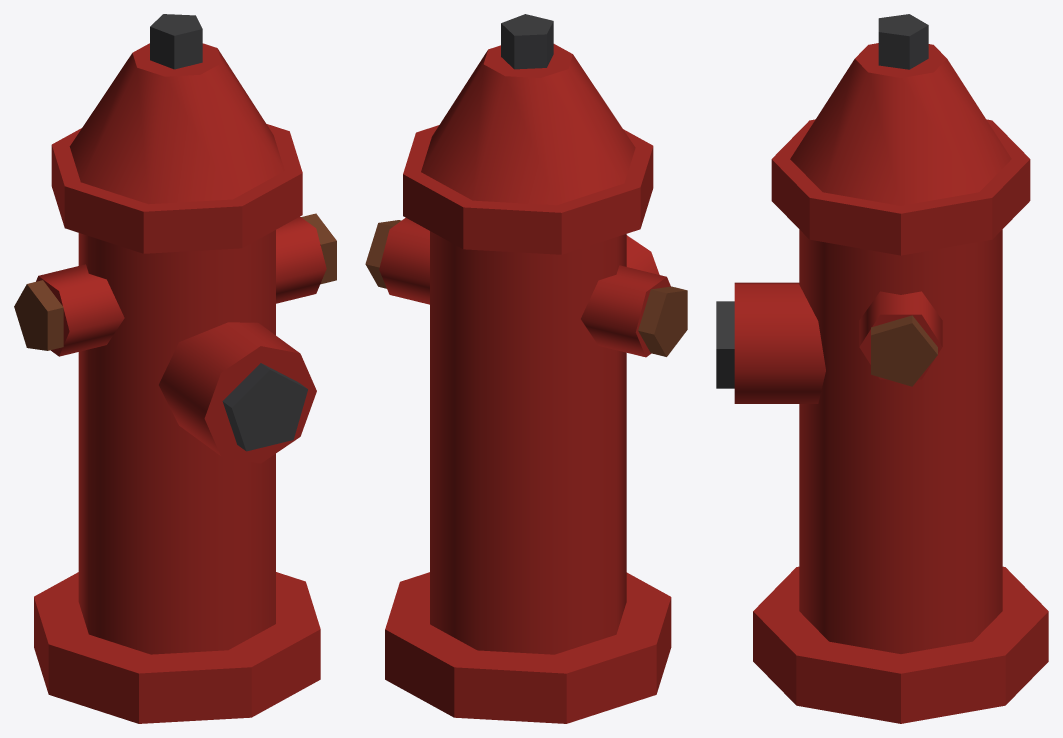
File: fire_hydrant.glb
3 views of the same model, side by side, from view 1: azimuth 30°, elevation 25°; view 2: azimuth 150°, elevation 25°; view 3: azimuth 270°, elevation 25° (orthographic).
Visible parts, largest first — view 1: fire_hydrant; view 2: fire_hydrant; view 3: fire_hydrant.
Boxes of the visible parts, x1,y1,x2,y2 form: fire_hydrant: (14, 14, 336, 723); fire_hydrant: (365, 14, 687, 723); fire_hydrant: (716, 14, 1048, 723).
Size of the model in its own units: 0.36 by 0.76 by 0.36.
1 material, 1 textured.
